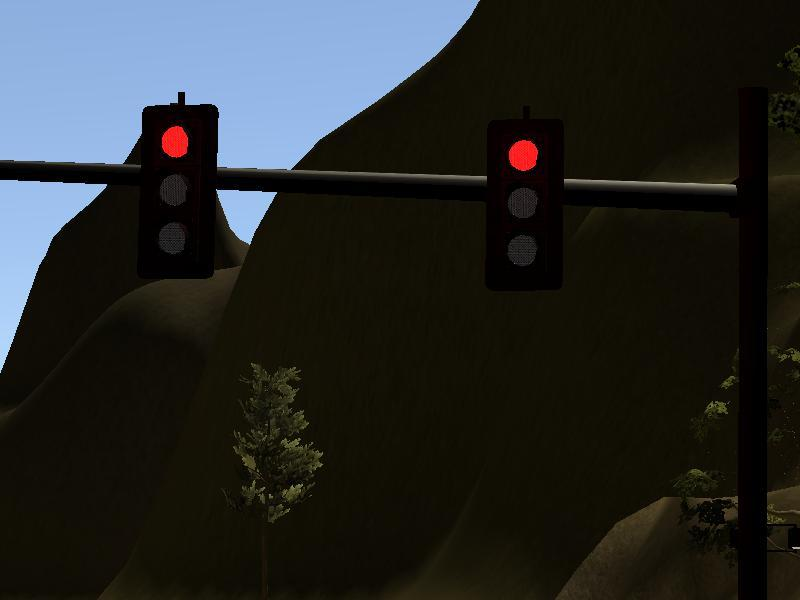Red: (138, 104, 216, 278), (484, 116, 562, 290)
